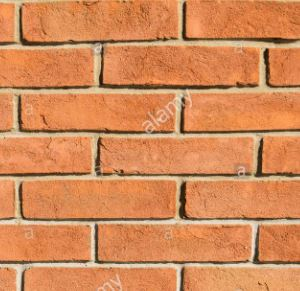brick: (100, 46, 261, 88), (20, 1, 178, 43), (20, 179, 178, 221), (19, 92, 178, 133), (98, 134, 253, 173), (97, 224, 253, 262), (184, 92, 300, 132), (183, 180, 300, 219), (184, 1, 300, 40), (1, 46, 95, 89), (1, 134, 93, 176), (20, 267, 178, 290), (1, 223, 92, 261), (180, 265, 299, 291), (257, 223, 300, 262), (260, 135, 300, 175), (266, 46, 300, 87)
